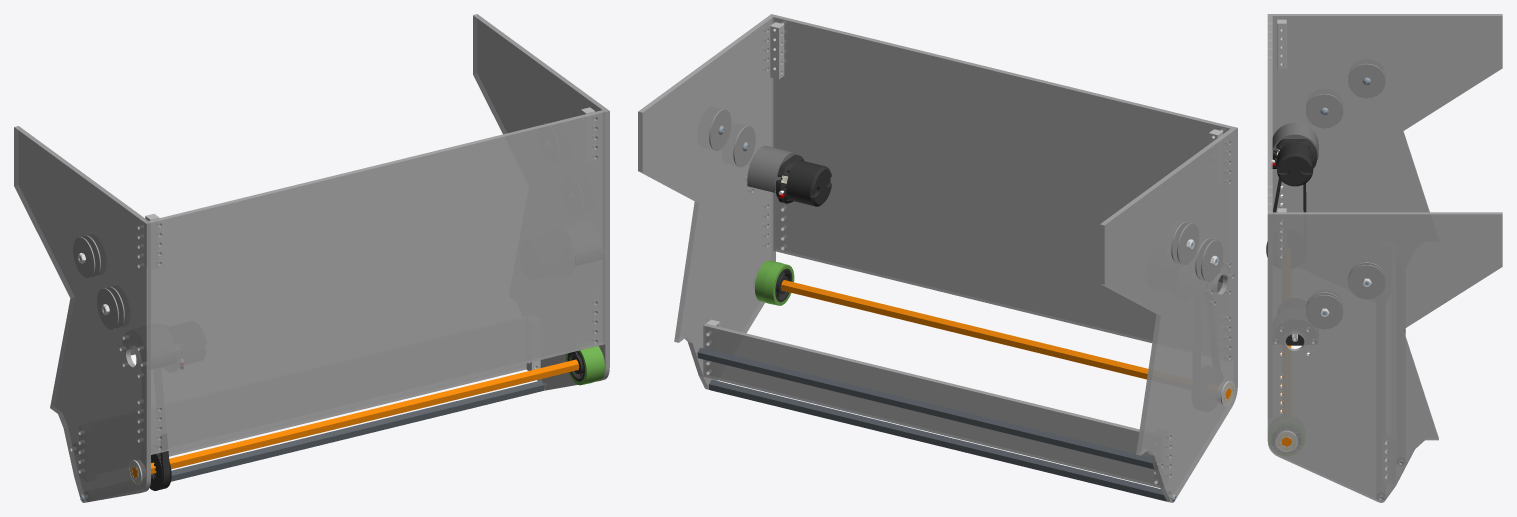
3 views of the same model, side by side, from view 1: azimuth 30°, elevation 25°; view 2: azimuth 150°, elevation 25°; view 3: azimuth 270°, elevation 25° (orthographic). The views are drawn at different scales.
Parts seen in each view (by area): view 1: Part 14, Part 13, Part 12, Part 36, Part 16, Part 27, 90481A224_Steel Oversized Washer (×2), 2" Stealth Wheel (35A, 1/2" Hex Bore); view 2: Part 14, Part 13, Part 12, Part 27, Part 15, Part 16, Part 36, 90481A224_Steel Oversized Washer (×4), NEO 2.0 Brushless Motor, Part 37, 2" Stealth Wheel (35A, 1/2" Hex Bore), Nut Strip (1/2" Square ,2.65" , #10-32 Tapped, Alternating .; view 3: Part 12, Part 13, 90481A224_Steel Oversized Washer (×4), NEO 2.0 Brushless Motor, Part 14, Part 37 (×2), Nut Strip (1/2" Square ,2.65" , #10-32 Tapped, Alternating ., 1/2" Rounded Hex (13.75mm) ID Bearing (1.125" OD, 0.313" WD,.
Part boxes in pixels (box(x1,y1,x2,y2)): Part 14: box(149, 110, 605, 454); Part 13: box(14, 126, 150, 502); Part 12: box(473, 14, 609, 390); Part 36: box(132, 359, 579, 477); Part 16: box(86, 380, 543, 501); Part 27: box(79, 363, 526, 476); 90481A224_Steel Oversized Washer (×2): box(73, 237, 118, 329); 2" Stealth Wheel (35A, 1/2" Hex Bore): box(566, 346, 604, 385); Part 14: box(773, 15, 1232, 342); Part 13: box(1100, 126, 1237, 502); Part 12: box(638, 14, 775, 389); Part 27: box(703, 323, 1162, 487); Part 15: box(697, 347, 1156, 469); Part 16: box(709, 379, 1170, 501); Part 36: box(780, 280, 1230, 399); 90481A224_Steel Oversized Washer (×4): box(709, 109, 1223, 281); NEO 2.0 Brushless Motor: box(775, 154, 831, 206); Part 37: box(747, 145, 797, 192); 2" Stealth Wheel (35A, 1/2" Hex Bore): box(755, 260, 794, 305); Nut Strip (1/2" Square ,2.65" , #10-32 Tapped, Alternating .: box(770, 22, 784, 79); Part 12: box(1267, 212, 1502, 502); Part 13: box(1267, 14, 1502, 212); 90481A224_Steel Oversized Washer (×4): box(1306, 63, 1385, 329); NEO 2.0 Brushless Motor: box(1271, 139, 1317, 186); Part 14: box(1267, 16, 1272, 410); Part 37 (×2): box(1272, 122, 1318, 343); Nut Strip (1/2" Square ,2.65" , #10-32 Tapped, Alternating .: box(1277, 19, 1286, 68); 1/2" Rounded Hex (13.75mm) ID Bearing (1.125" OD, 0.313" WD,: box(1275, 430, 1297, 452).
Bounding box in the file's own units: 0.6713 × 0.4315 × 0.3195.
